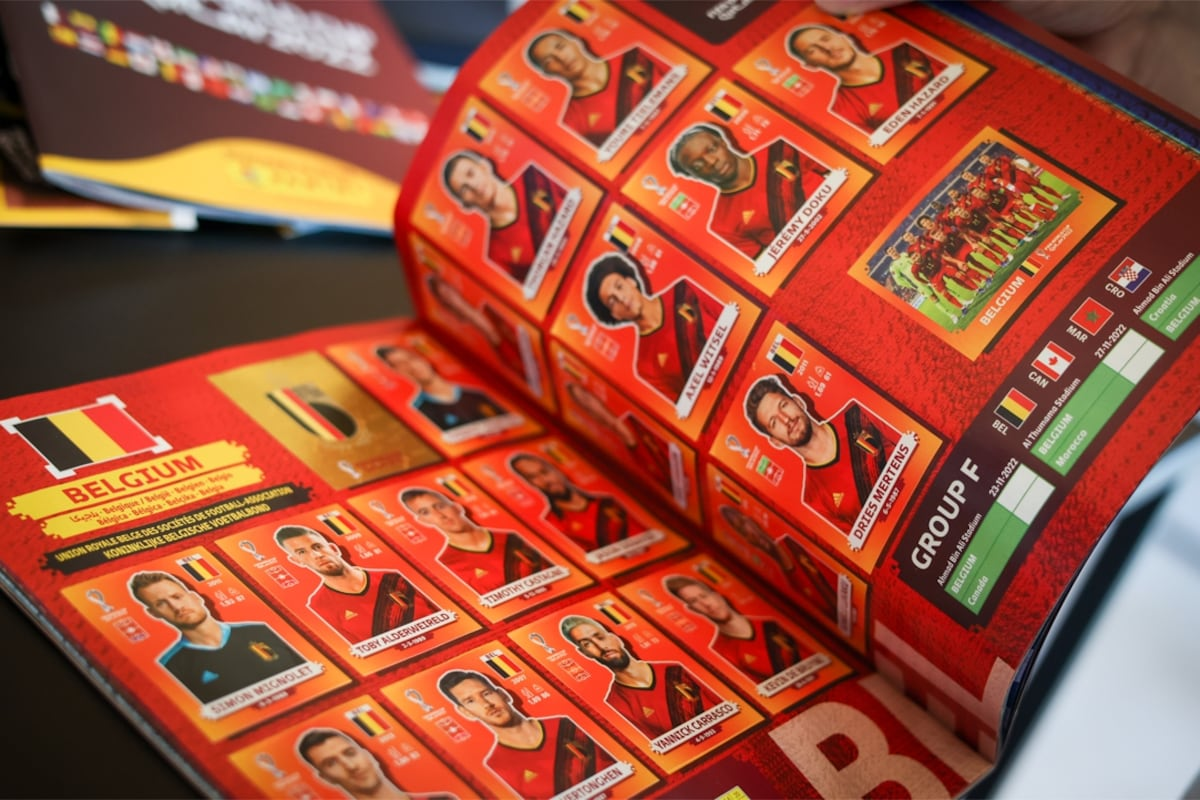Imprimante: (234, 171, 692, 419)
